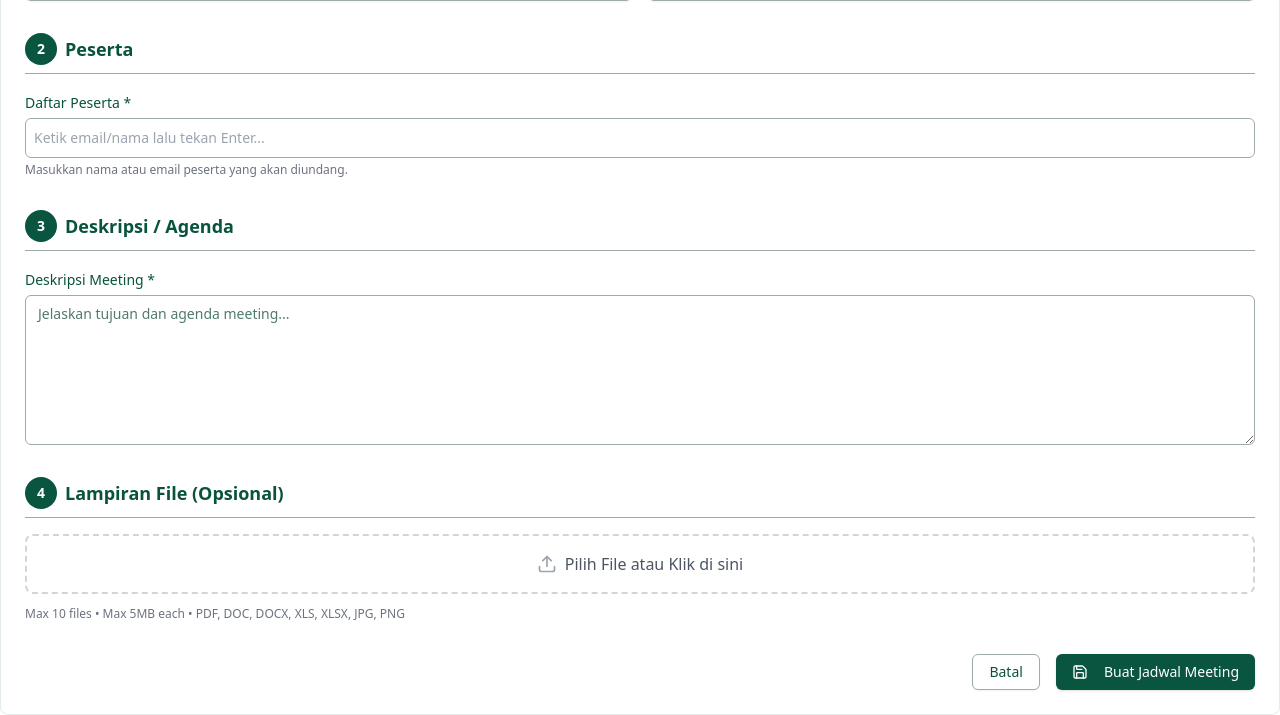
Test case: CreateMeetingPage › Critical Path - Form Validation › should show validation error for empty title
(page scrolled)
Click the button "Buat Jadwal Meeting": (1155, 672) [1056,654,1255,690]
(page scrolled)
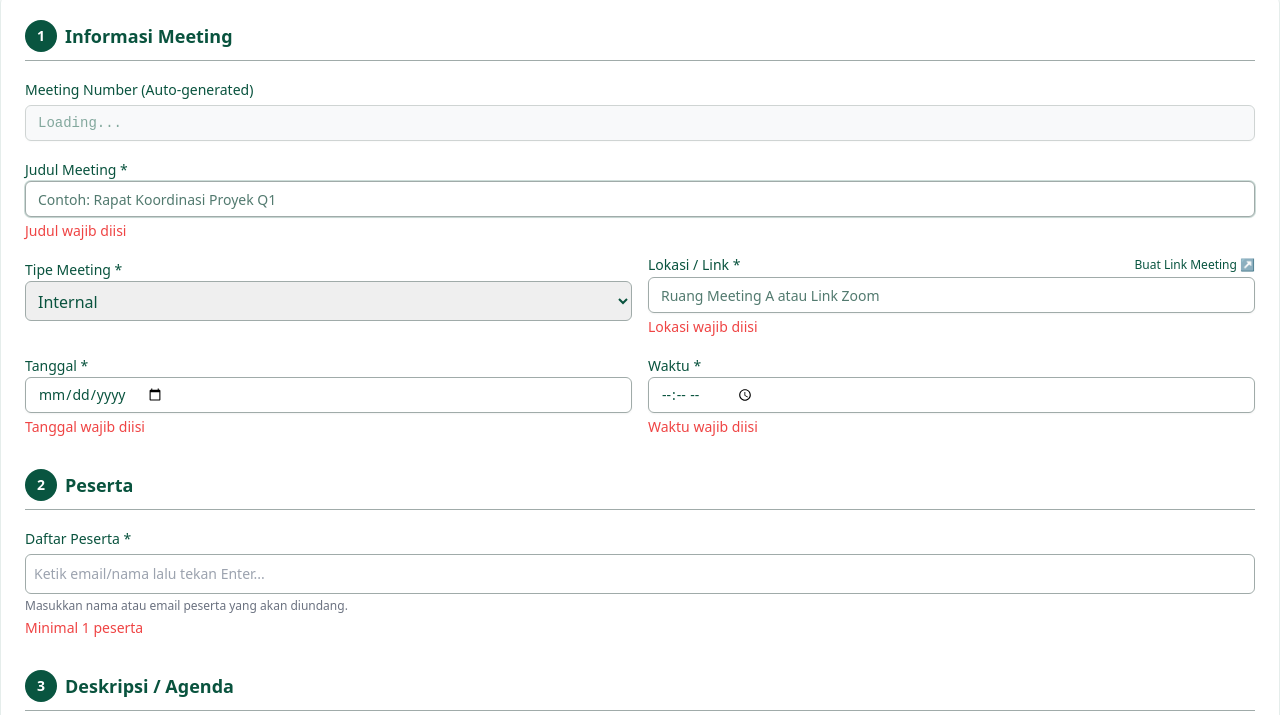
Result: the text "Judul wajib diisi" is shown at [25,221,126,240]
